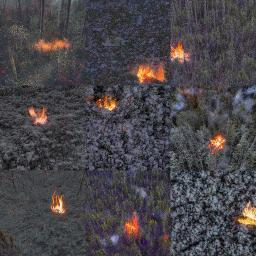Small fire: (20, 103, 55, 132), (91, 90, 127, 118), (33, 33, 76, 55), (132, 61, 168, 86), (204, 130, 235, 159), (121, 211, 146, 245), (46, 187, 71, 219), (171, 37, 195, 65), (237, 202, 256, 230)
